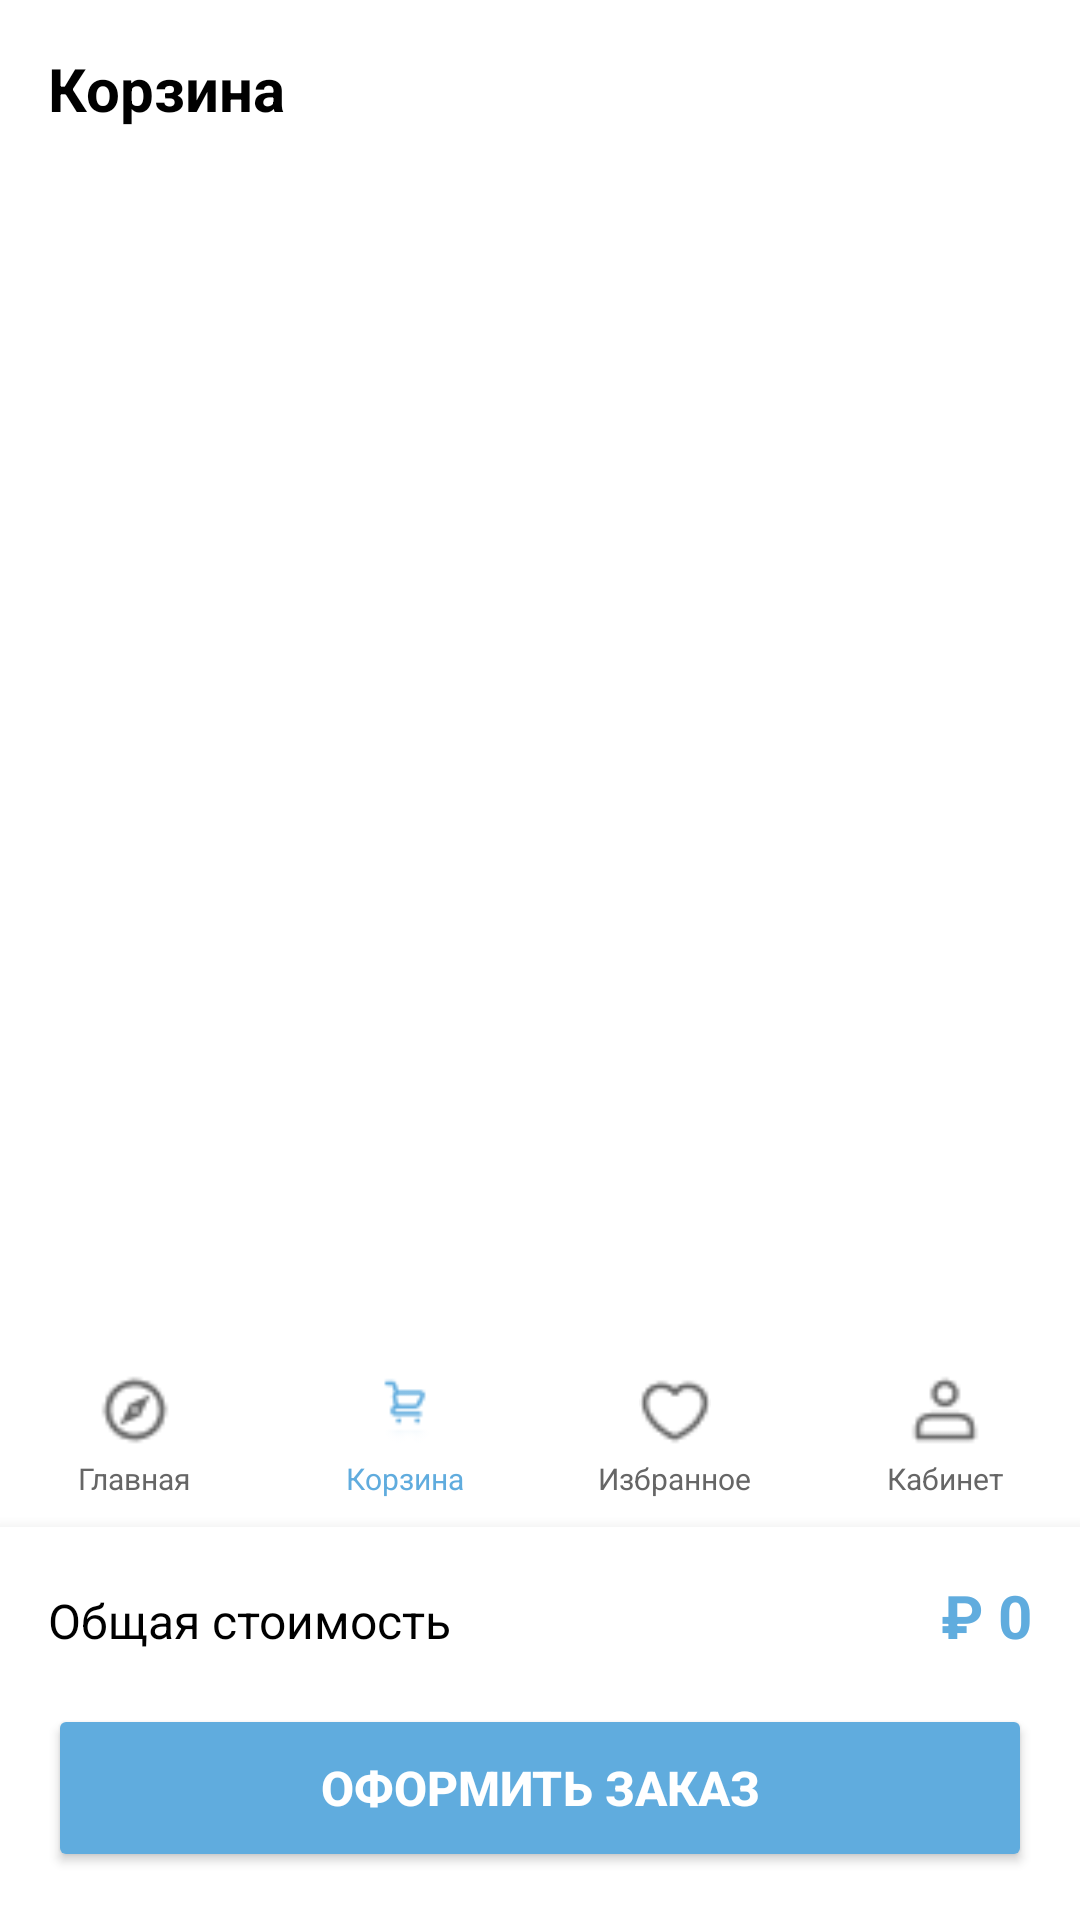

Point at icon controls on the screen. Image size 1080x1920, points as (x=x, y=y).
cart: (x=405, y=1402)
heart: (x=675, y=1411)
